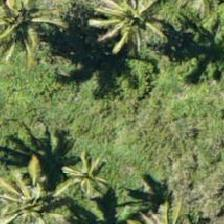coconut_tree: (42, 135, 132, 223), (85, 0, 175, 63), (0, 166, 68, 223), (0, 0, 57, 59)
